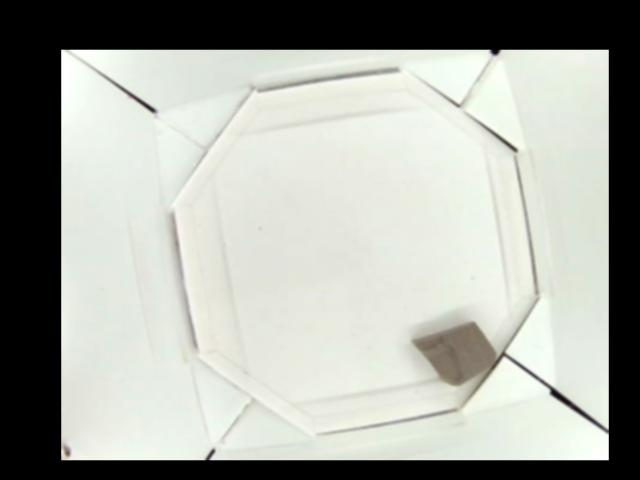China: (411, 316, 495, 388)
